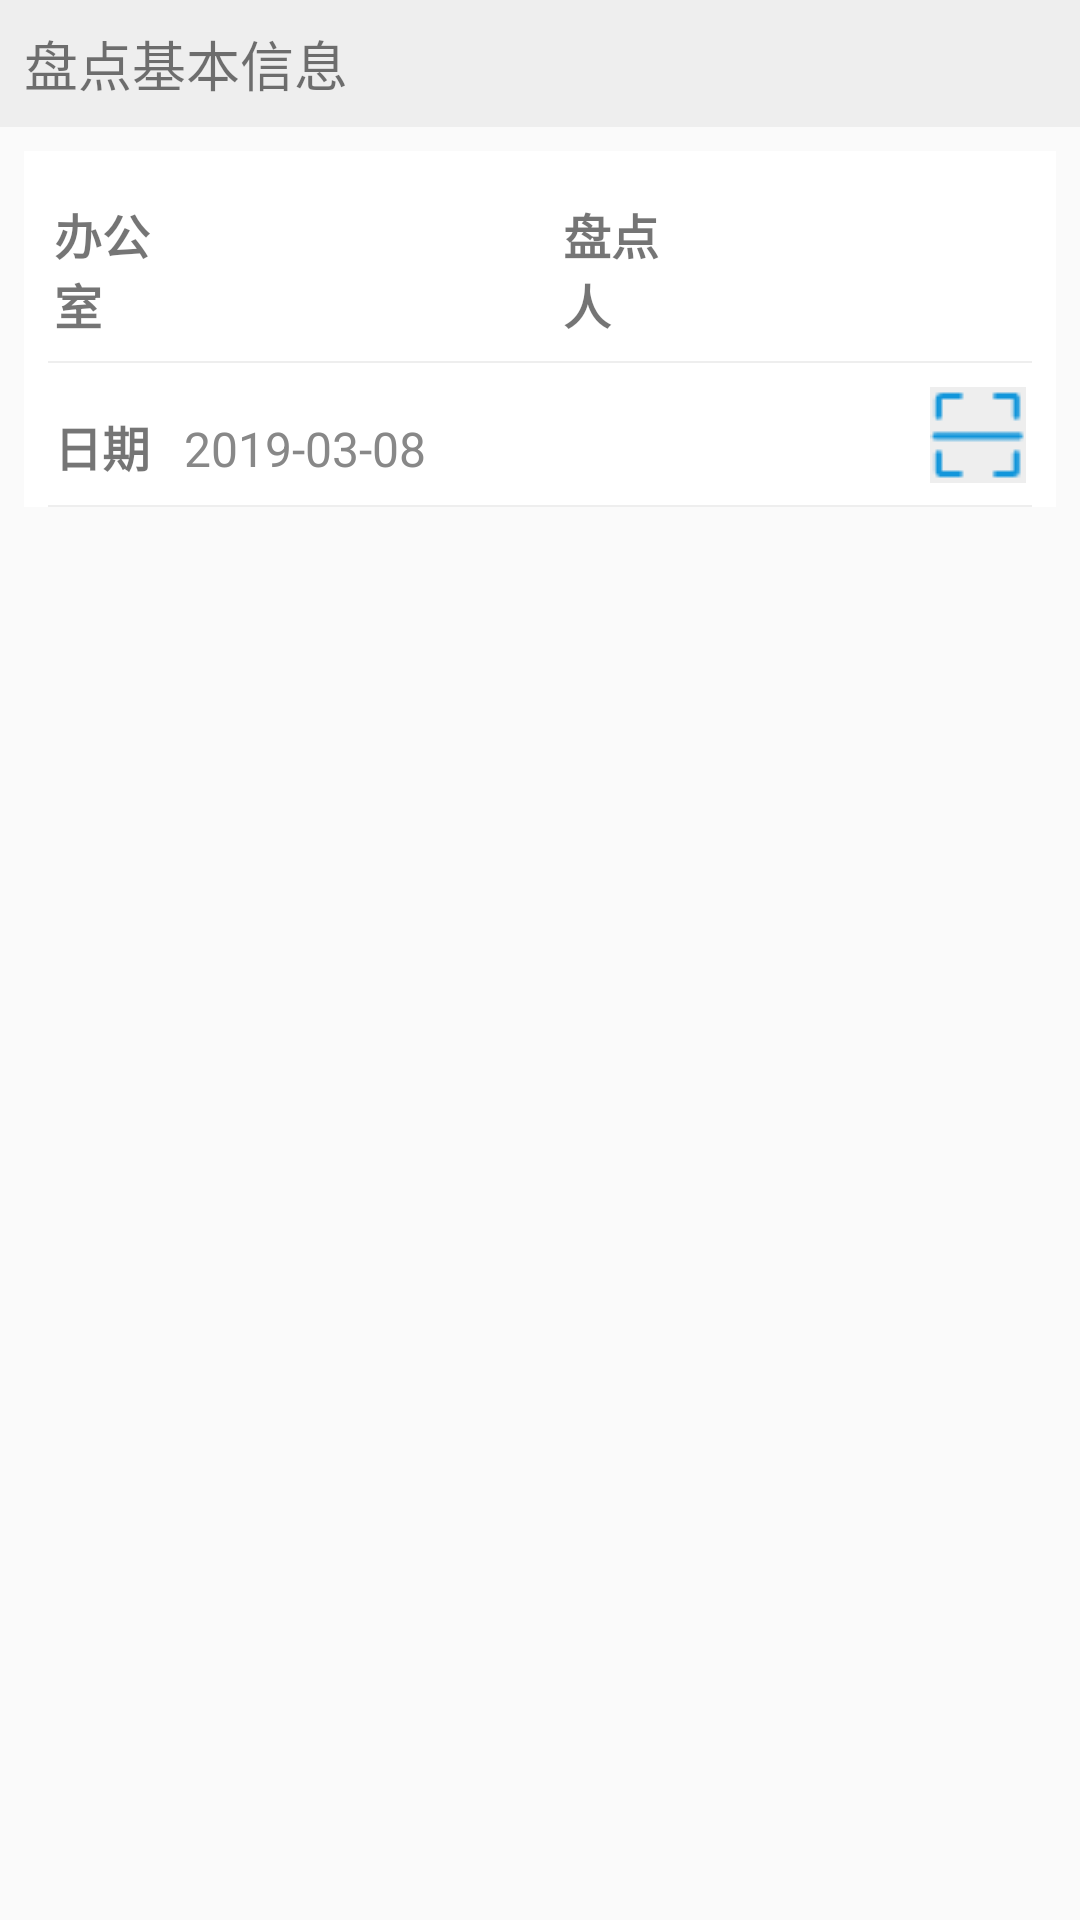

Icon bounding boxes for this 1080x1920 phone screenshot, format (x1, y1, x2, y2):
开始扫描: (930, 387, 1026, 483)
